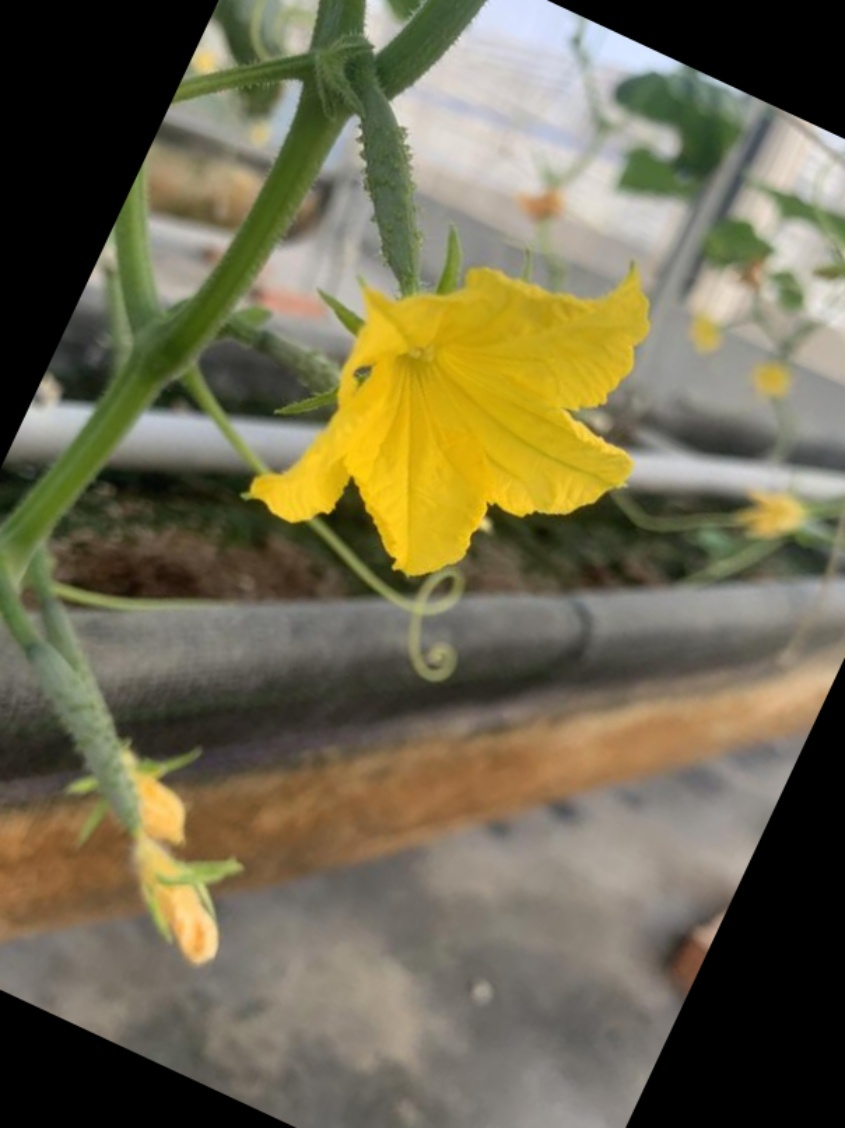flowering: (242, 88, 664, 614)
mature: (245, 88, 665, 614)
